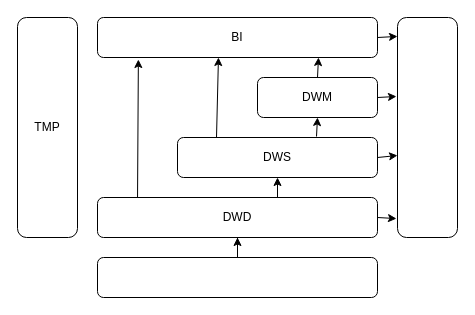
Some shapes in this 475 by 315 pixel diagram are drawn without their labels. Here are the shapes that lost their labels. From the top down, the box of each, then its label:
(396, 16, 458, 238): DIM
(96, 256, 378, 298): ODS
